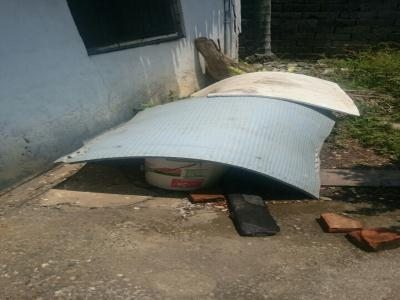bowl: (140, 152, 233, 195)
